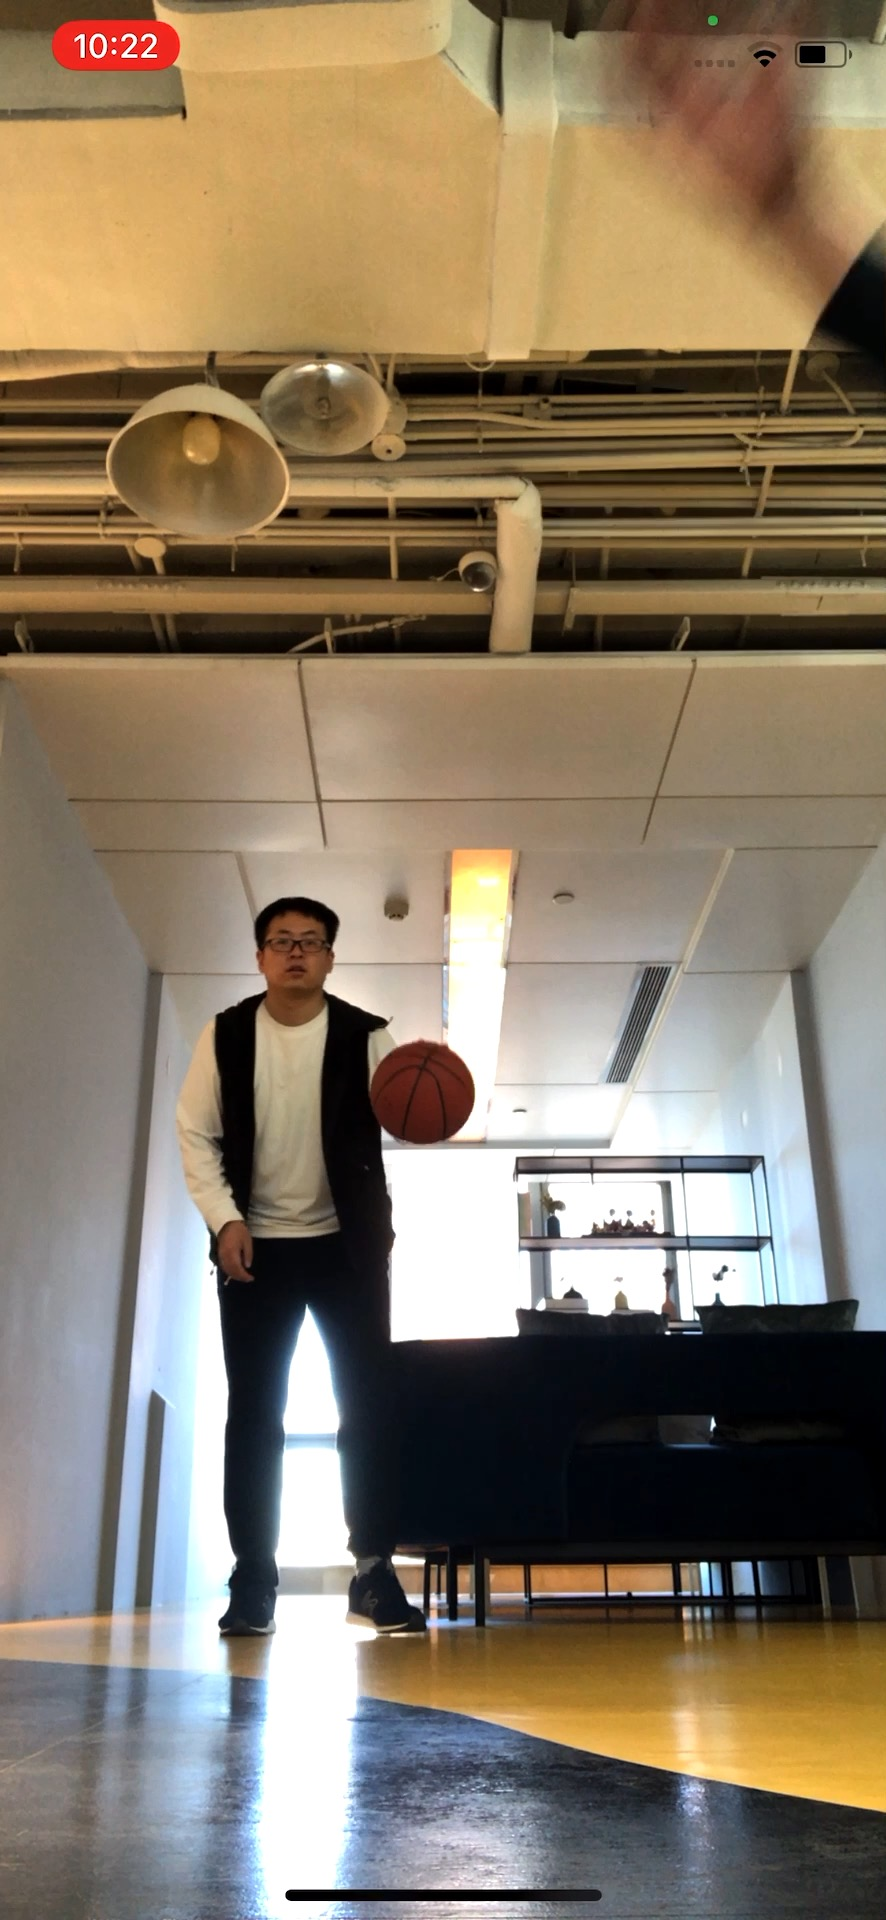ball: (370, 1037, 474, 1142)
